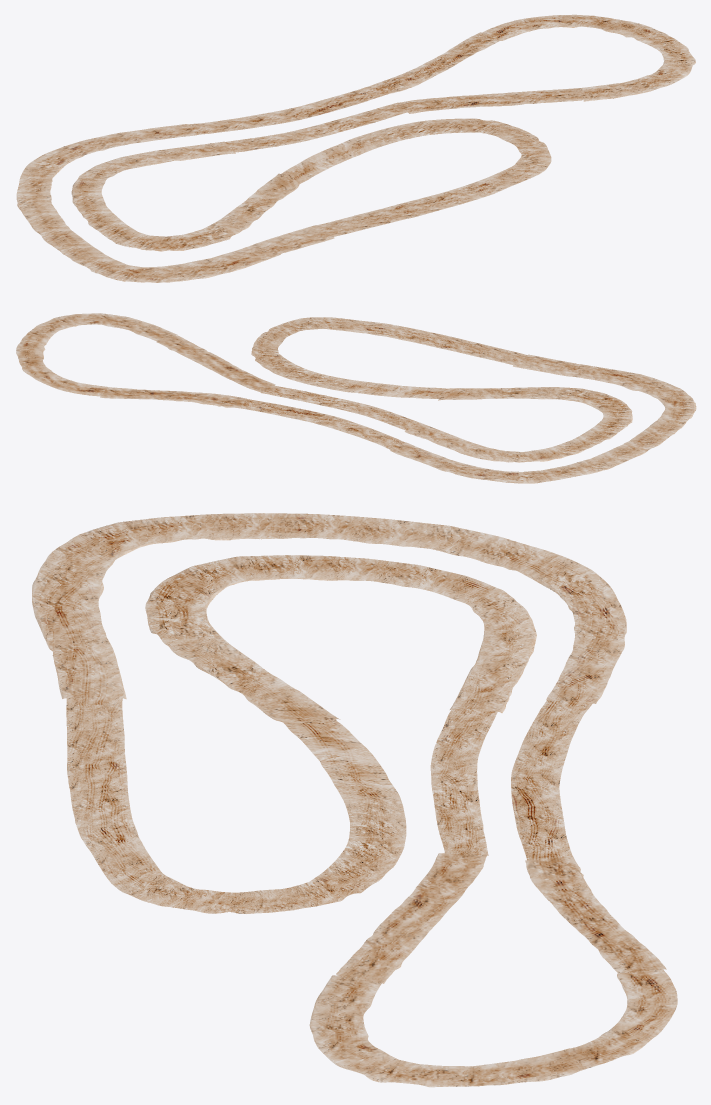
File: RutaTrozo.fbx
3 views of the same model, one above another, from view 1: azimuth 30°, elevation 25°; view 2: azimuth 150°, elevation 25°; view 3: azimuth 270°, elevation 25° (orthographic). The views are drawn at different scales.
Visible parts, largest first — view 1: RutaA, RutaB, RutaC; view 2: RutaA, RutaB, RutaC; view 3: RutaA, RutaB, RutaC.
Part boxes in pixels (x1=…): RutaA: x1=16, y1=124, x2=334, y2=282; RutaB: x1=188, y1=84, x2=551, y2=236; RutaC: x1=374, y1=14, x2=695, y2=113; RutaA: x1=390, y1=354, x2=696, y2=483; RutaB: x1=240, y1=317, x2=526, y2=449; RutaC: x1=16, y1=313, x2=275, y2=408; RutaA: x1=32, y1=513, x2=626, y2=722; RutaB: x1=66, y1=698, x2=592, y2=913; RutaC: x1=309, y1=853, x2=677, y2=1087.
Bounding box in the file's own units: 17639 × 23.71 × 8475.
